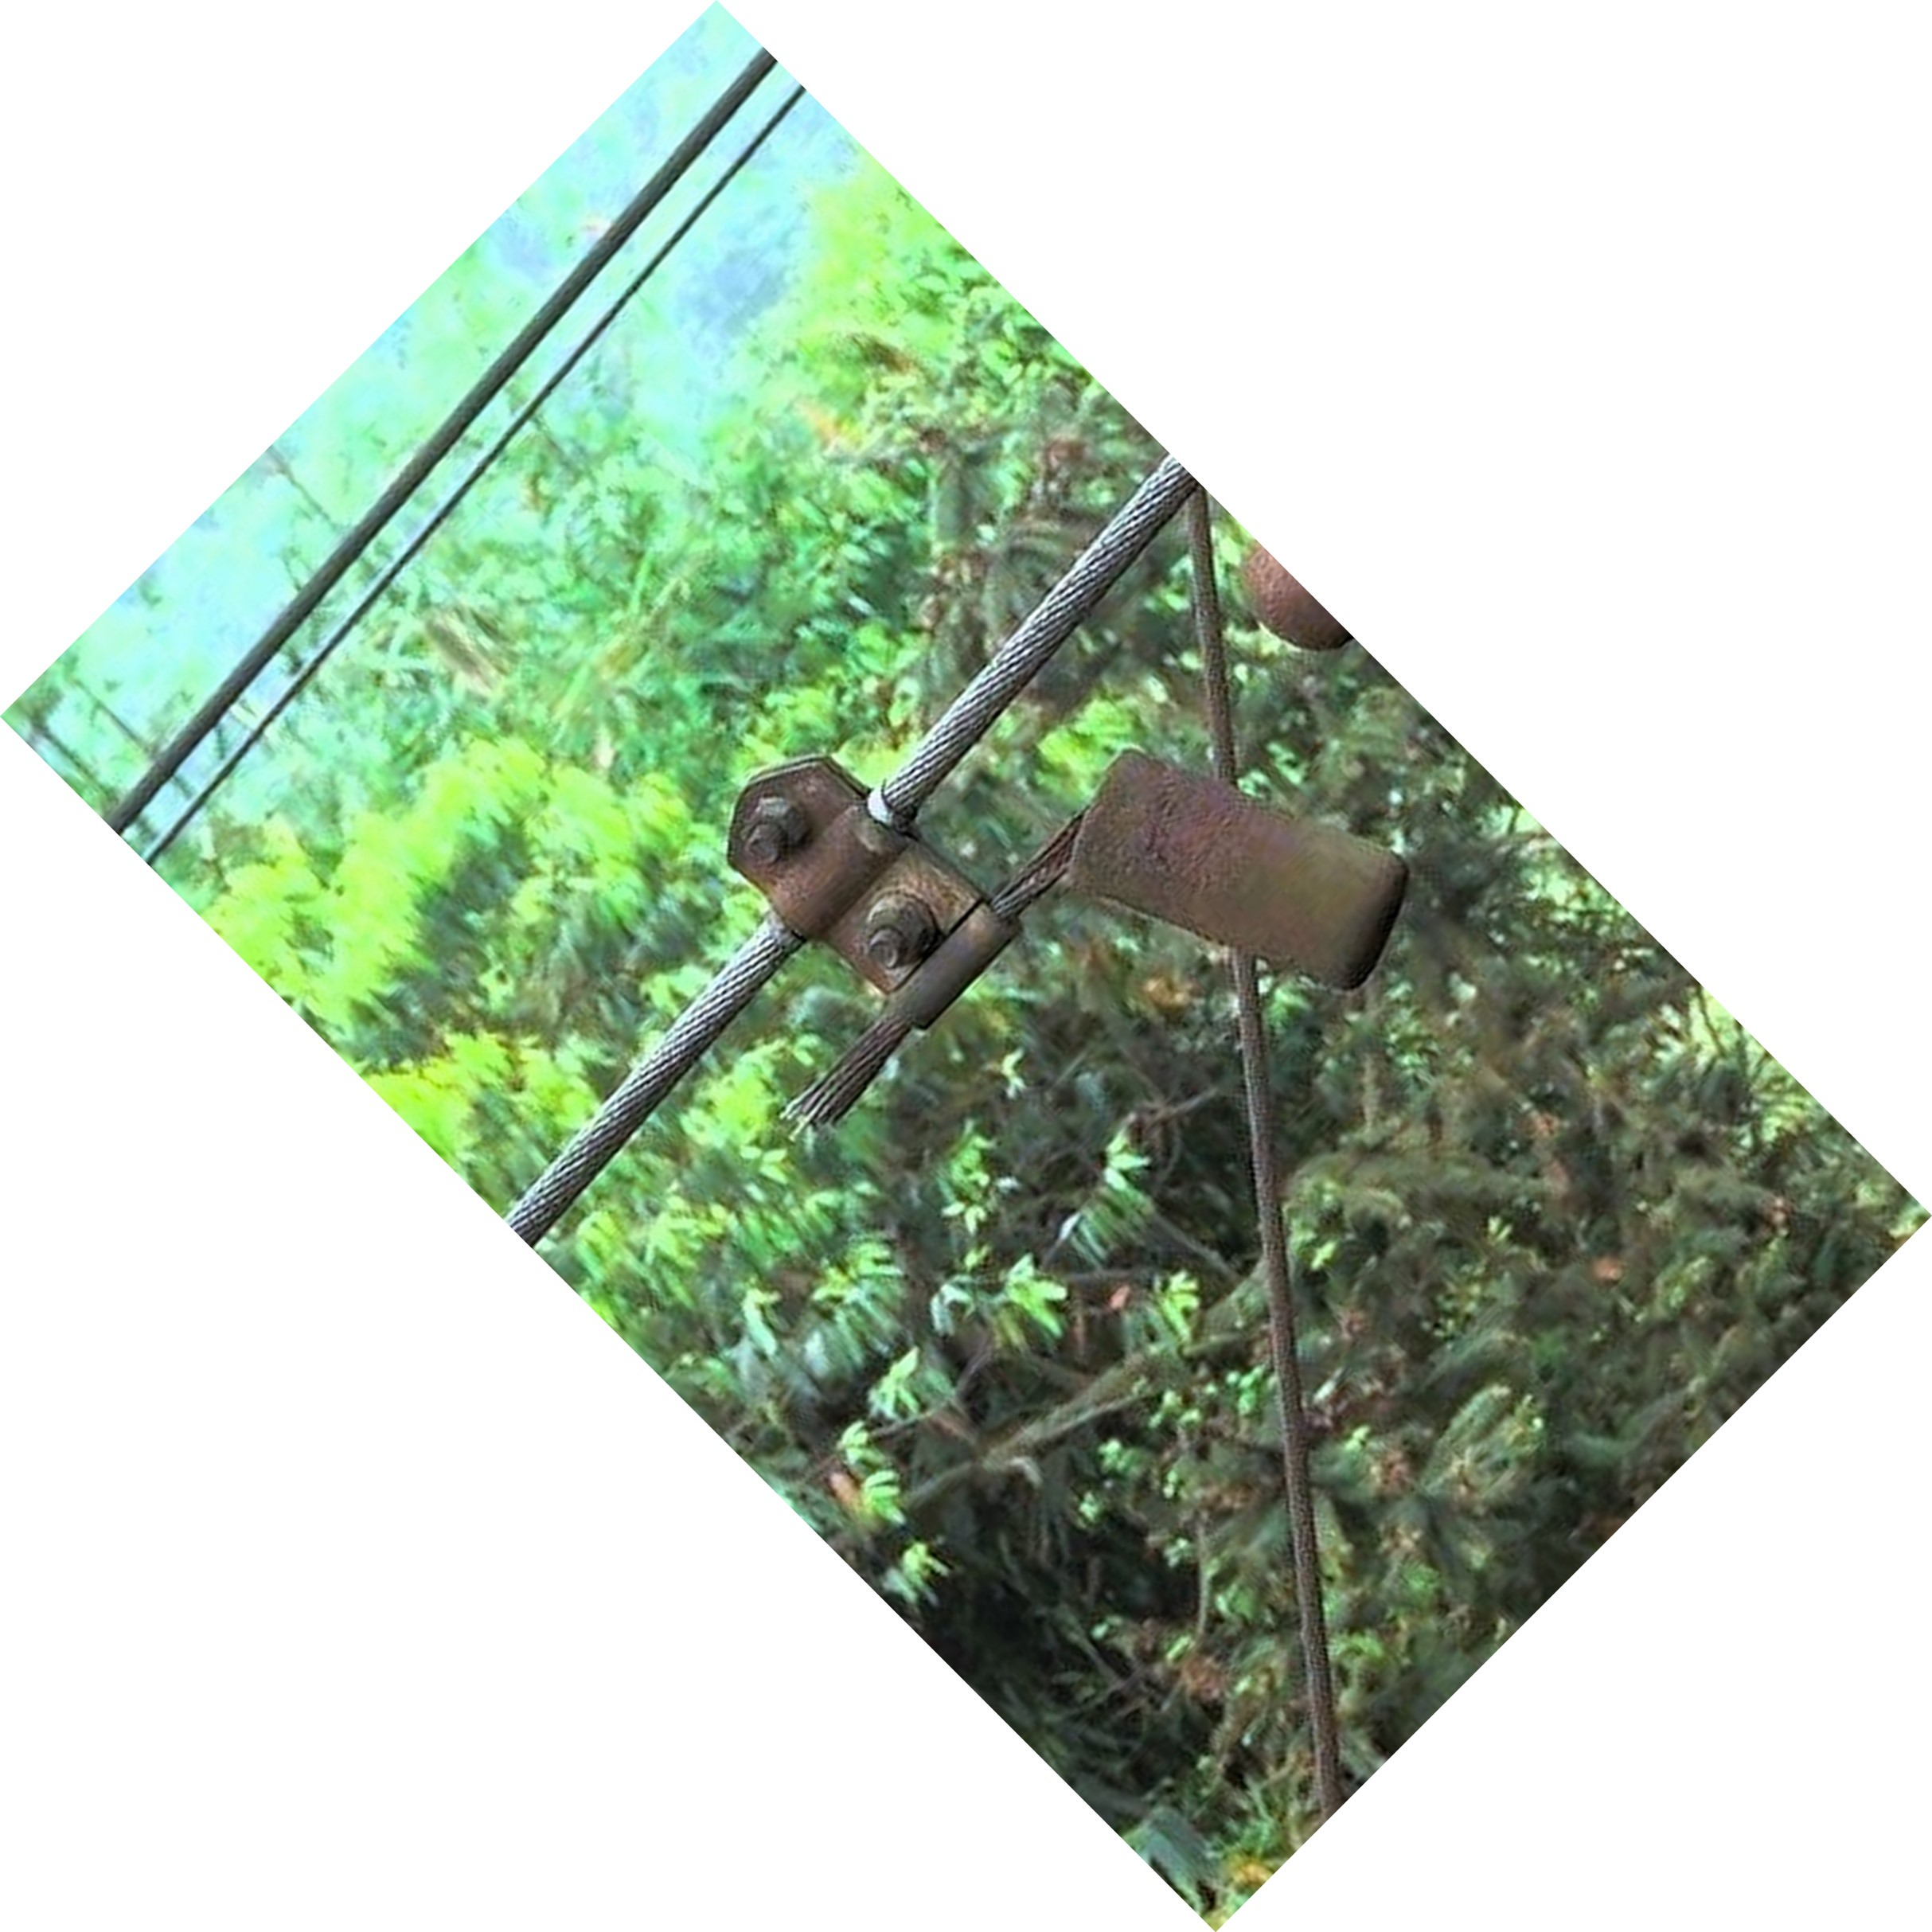Damage of shockproof hammer: (694, 685, 1426, 1214)
